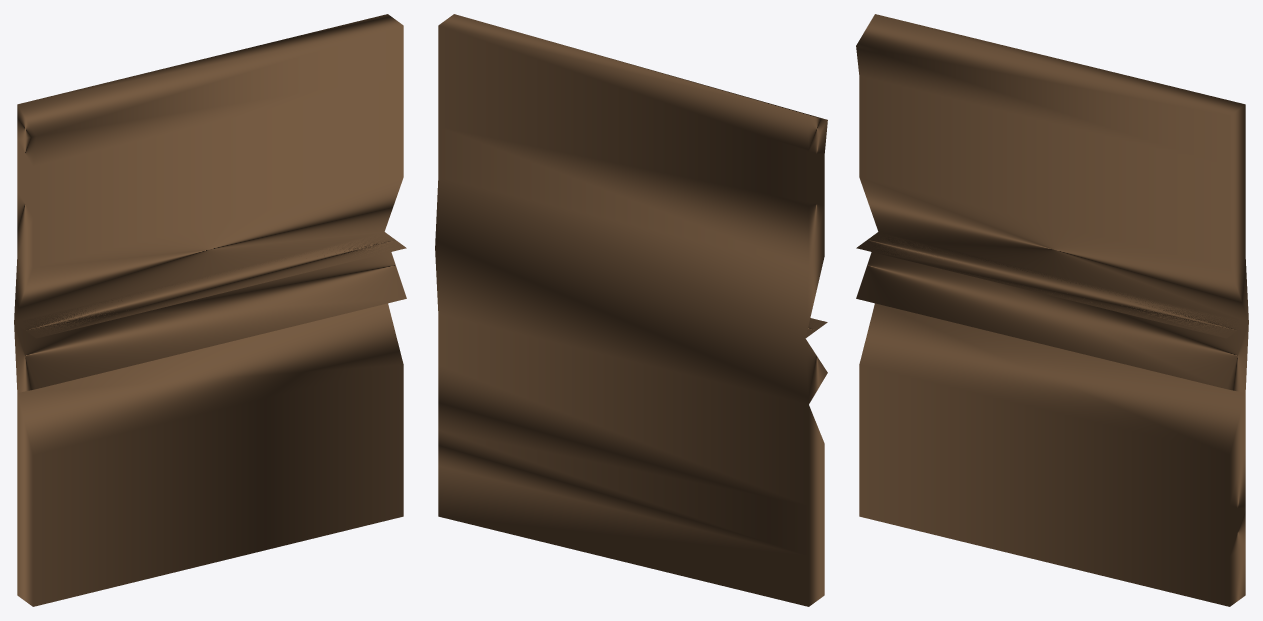
The model's file is wall_log_lod1.glb.
The picture shows the model from 3 angles, left to right: view 1: azimuth 30°, elevation 25°; view 2: azimuth 150°, elevation 25°; view 3: azimuth 330°, elevation 25°; orthographic projection.
Bounding box in the file's own units: 2.3 × 2.91 × 0.24.
